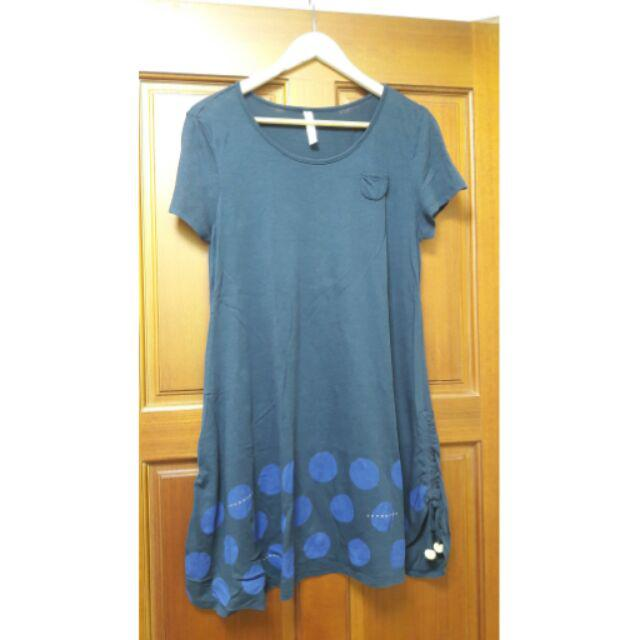Dresses: (170, 76, 466, 616)
